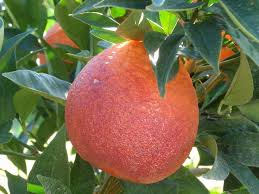orange: (63, 37, 202, 182)
